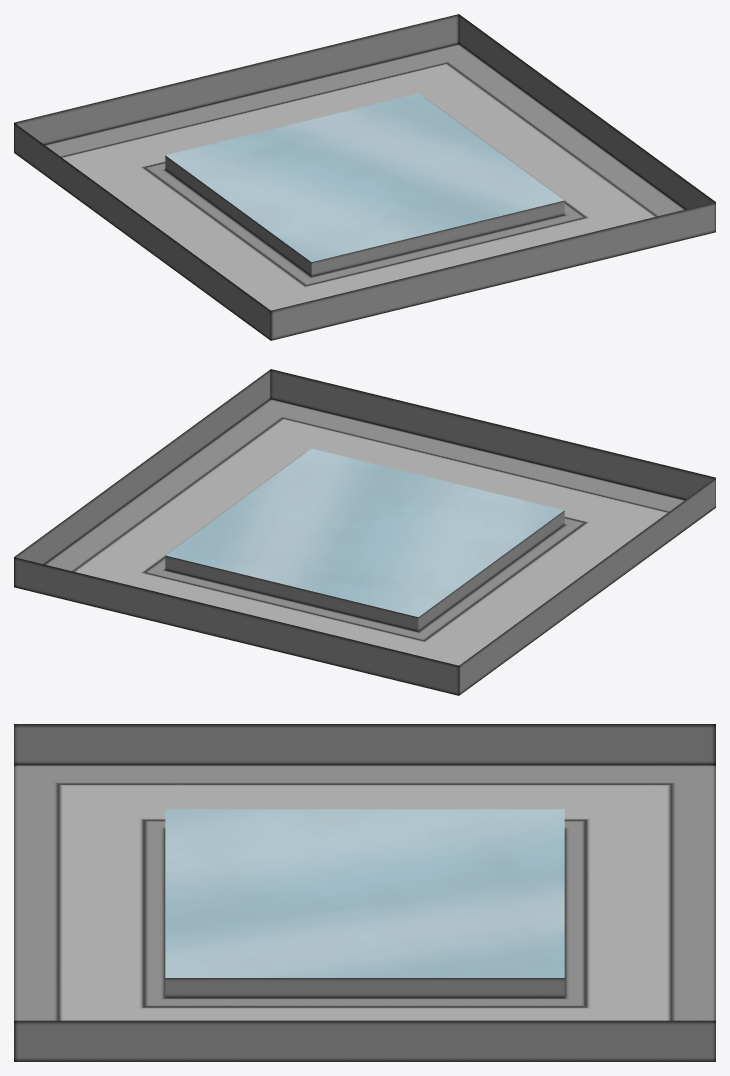
File: light1_off.fbx
3 views of the same model, one above another, from view 1: azimuth 30°, elevation 25°; view 2: azimuth 150°, elevation 25°; view 3: azimuth 270°, elevation 25° (orthographic). The views are drawn at different scales.
Visible parts, largest first — view 1: polySurface1063; view 2: polySurface1063; view 3: polySurface1063.
Part boxes in pixels (x1=…): polySurface1063: x1=14, y1=14, x2=715, y2=340; polySurface1063: x1=14, y1=369, x2=715, y2=695; polySurface1063: x1=14, y1=724, x2=715, y2=1061.
Size of the model in its own units: 0.4895 by 0.0318 by 0.4895.
